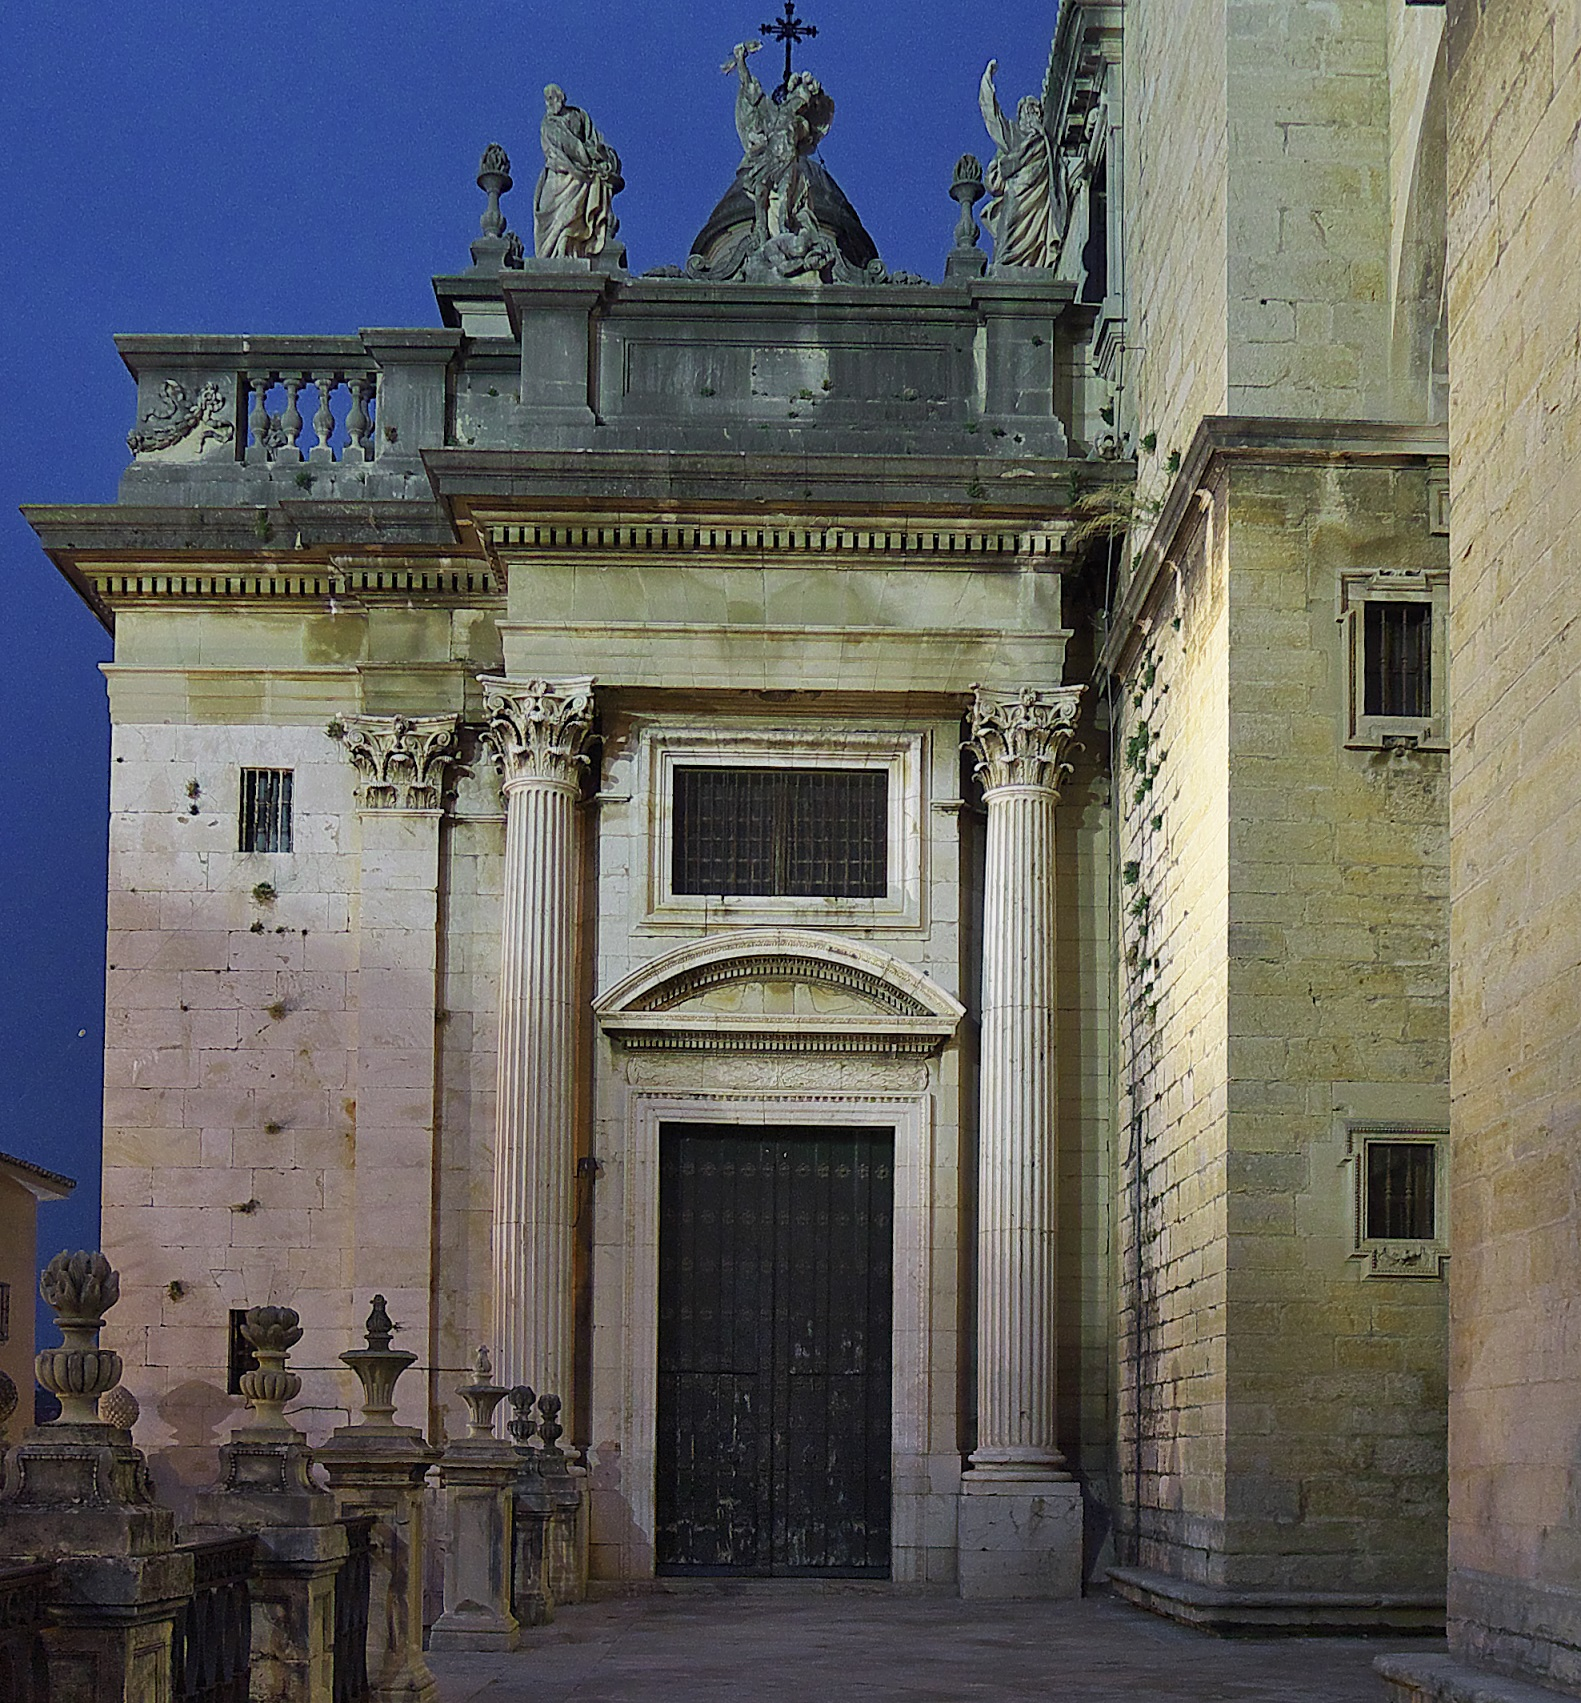fronton-curvo: (588, 918, 978, 1068)
vano-adintelado: (617, 1077, 944, 1597)
